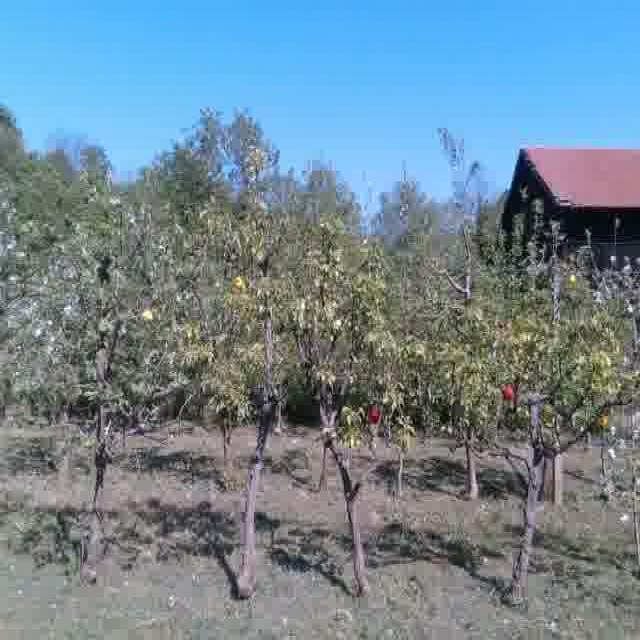red: (366, 404, 383, 426), (500, 381, 515, 402)
yellow: (138, 305, 155, 325)
